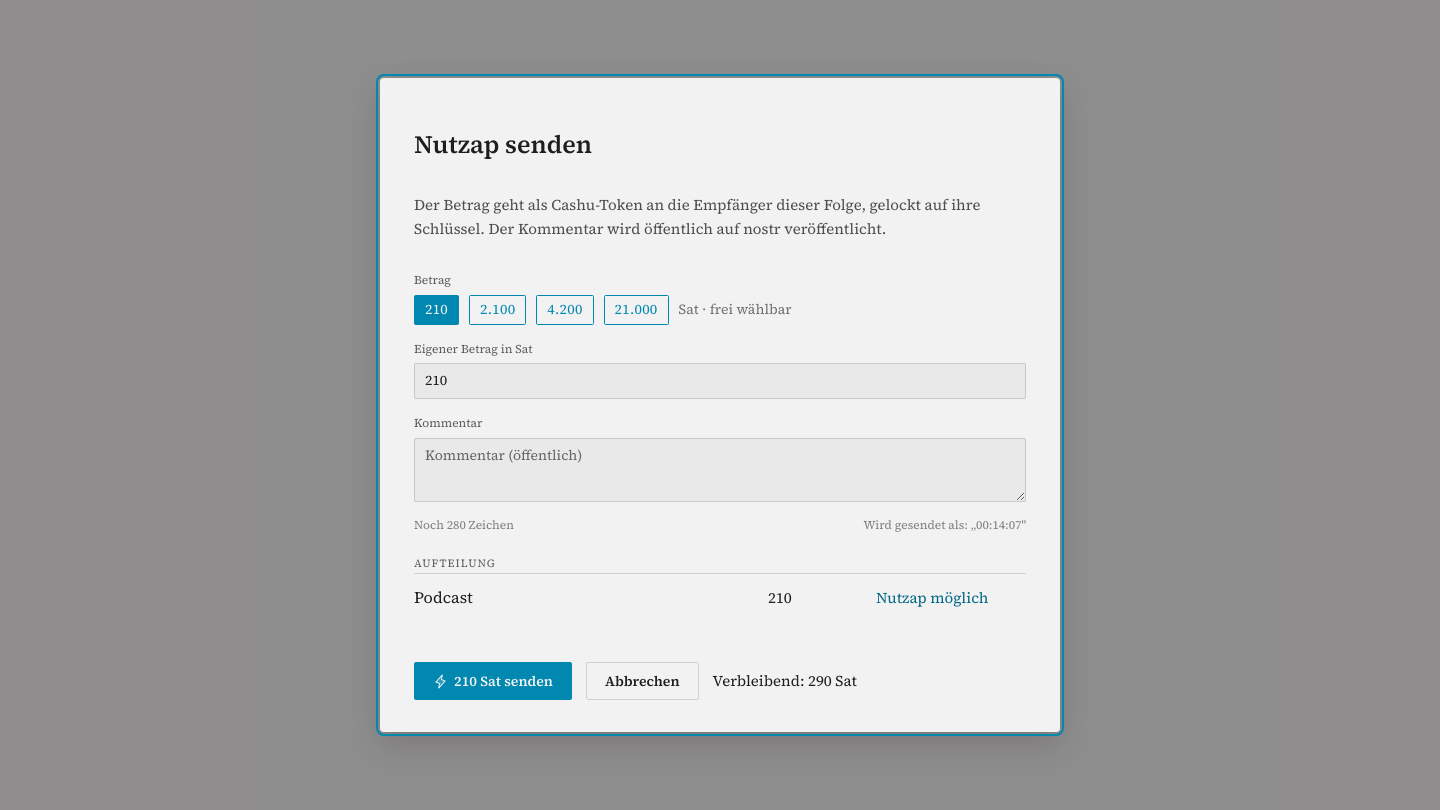
Test: US-06-AC-2: zu wenig Guthaben › deaktiviert den Sendeknopf
Replace the text in the number field named "boost-amount" with "1000" at point(720, 381), box x1=414 y1=363 x2=1026 y2=399
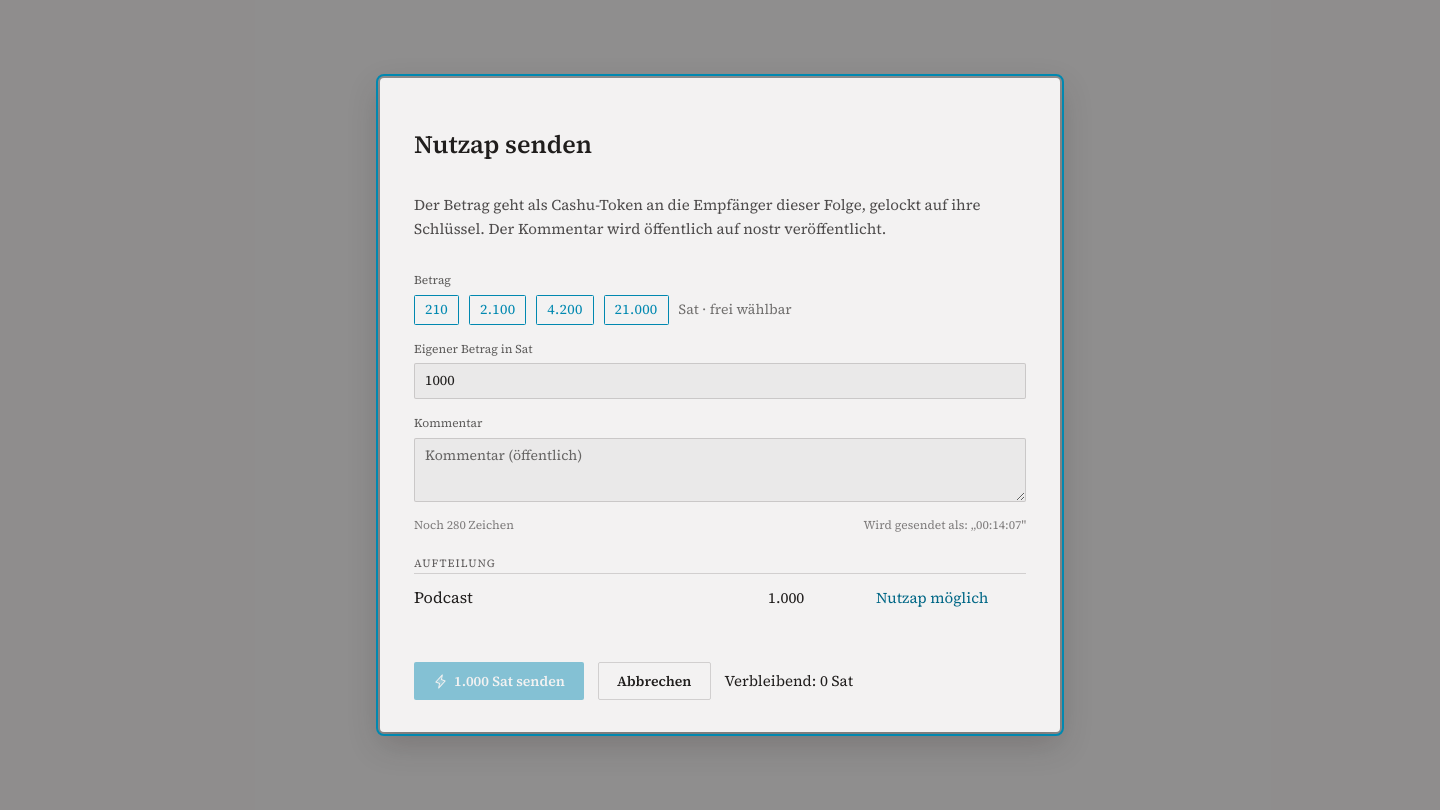
Check: the button "1.000 Sat senden" is disabled, box x1=414 y1=662 x2=584 y2=700
